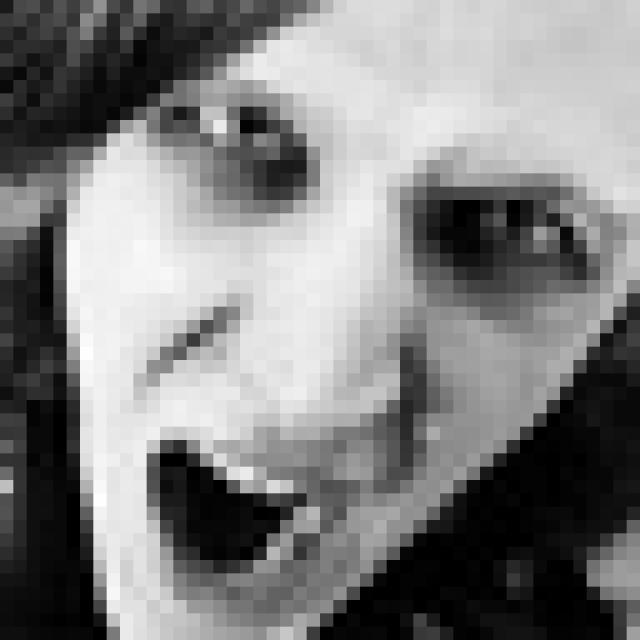angry: (132, 81, 618, 640)
